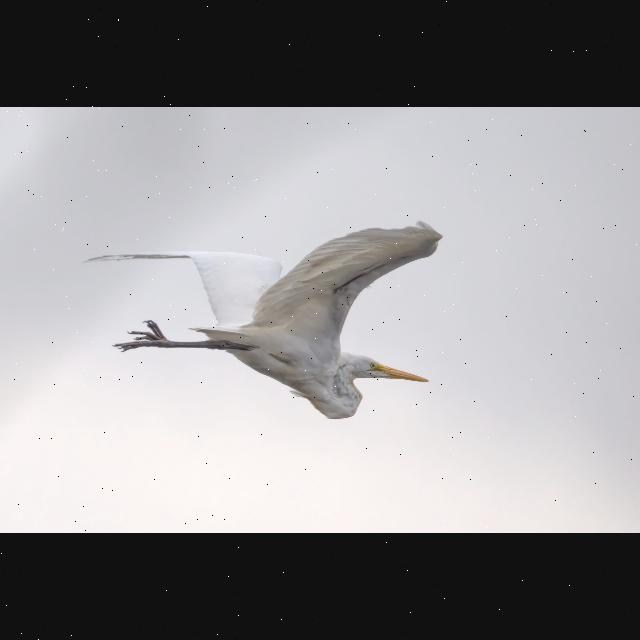egret: (80, 224, 440, 418)
